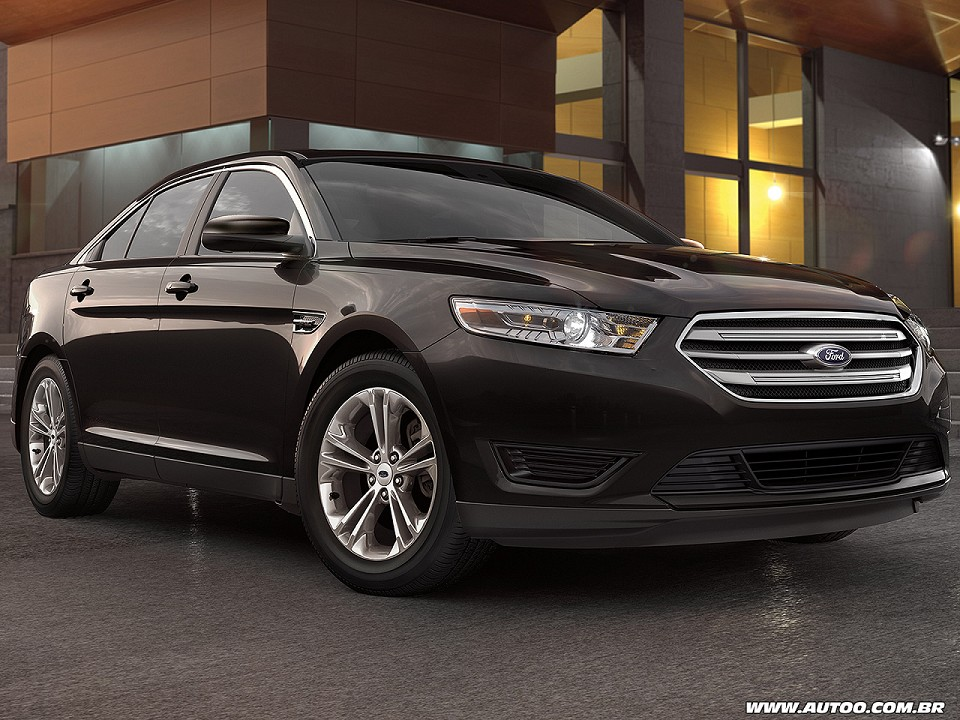Carro: (10, 145, 960, 605)
